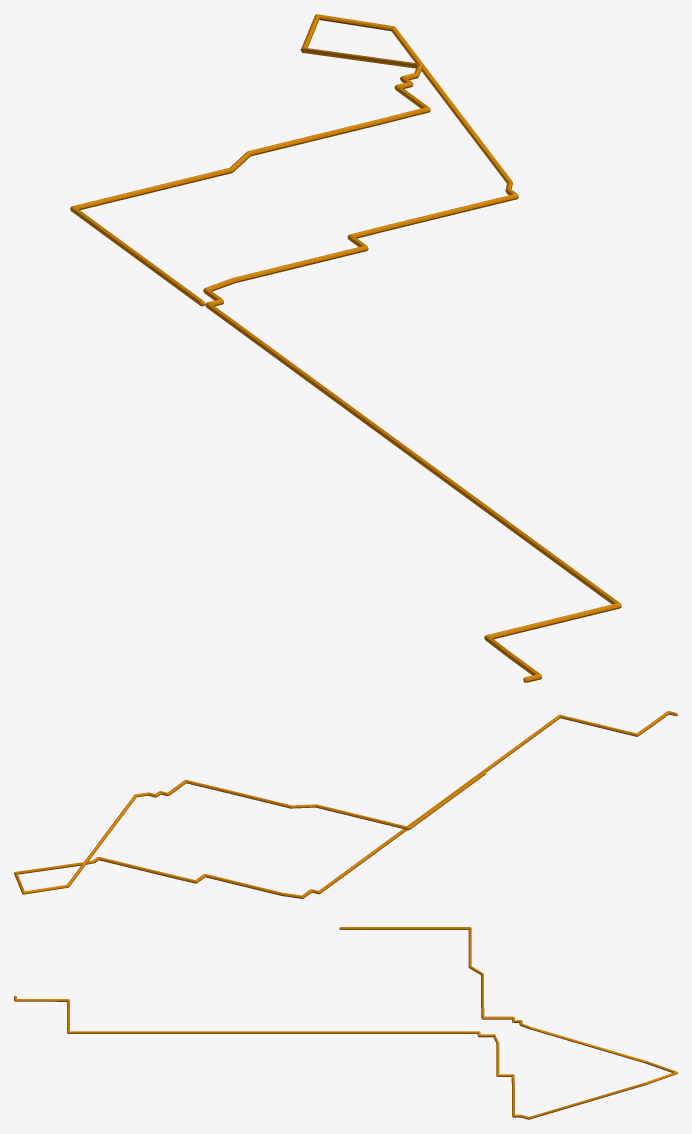
3 renders of one model, top to bottom at view 1: azimuth 30°, elevation 25°; view 2: azimuth 150°, elevation 25°; view 3: azimuth 270°, elevation 25°, orthographic. The views are drawn at different scales.
Bounding box in the file's own units: 1907 × 520 × 4365.
